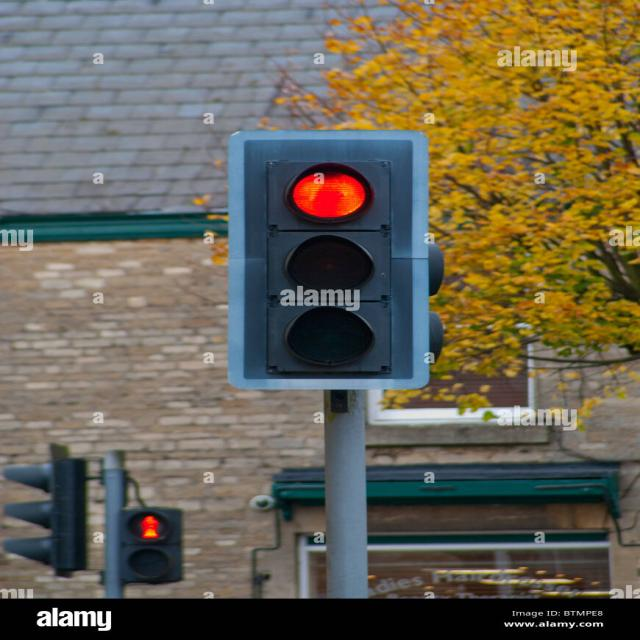red: (286, 164, 376, 223), (133, 516, 172, 542)
